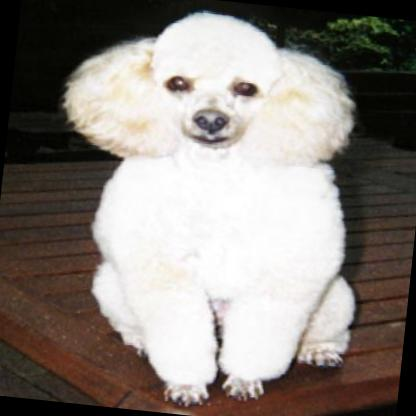toy_poodle: (28, 0, 383, 416)
